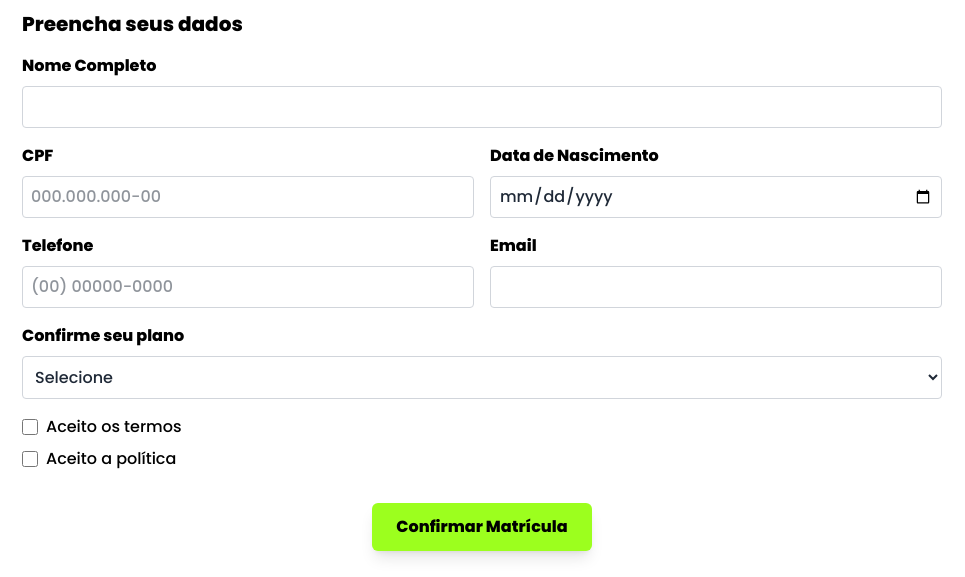
EnrollmentForm › remove números do nome
This screenshot has width=965, height=577.
In the field labelled "Nome Completo": {"x": 482, "y": 107} [22,86,942,128], type "Ana123 Martins"
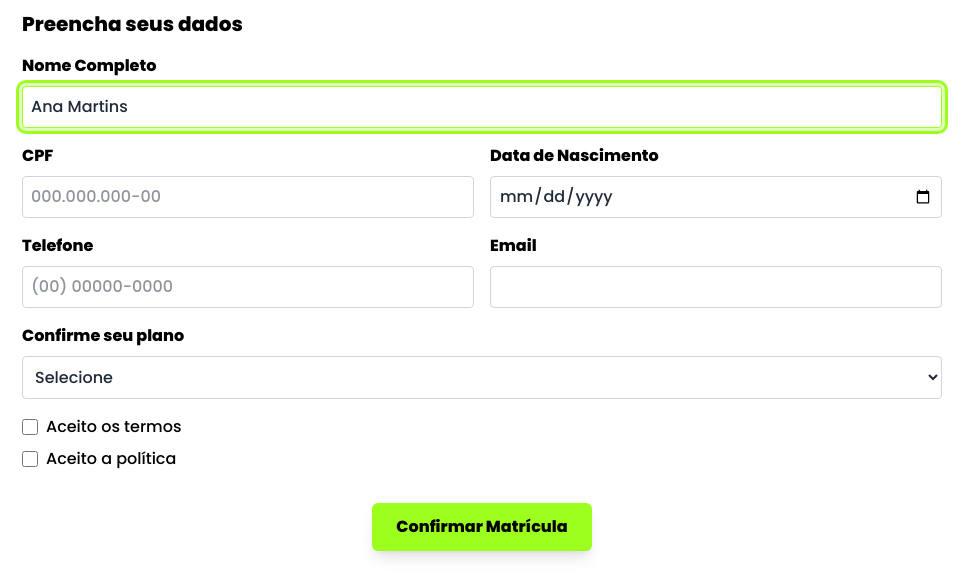
Check: the field labelled "Nome Completo" holds "Ana Martins", box [22,86,942,128]
